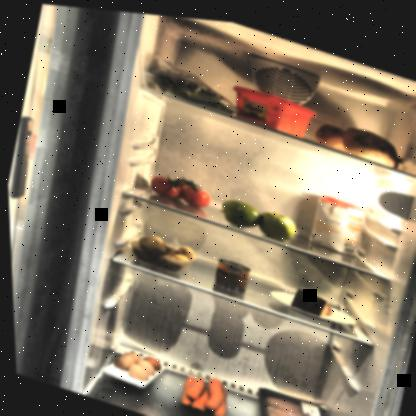apple: (217, 189, 300, 241)
butter: (227, 76, 318, 138)
carrot: (170, 363, 232, 415)
cheese: (284, 280, 335, 316)
chicken: (253, 384, 330, 415)
corn: (210, 252, 251, 290)
eggs: (107, 342, 162, 385)
green_beans: (140, 55, 243, 113)
potato: (124, 224, 197, 277)
sweet_potato: (306, 105, 410, 166)
tomato: (145, 163, 215, 209)
